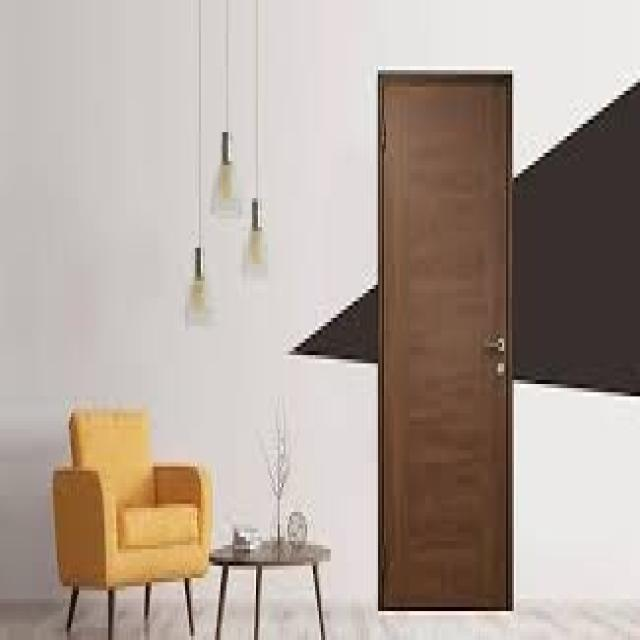door: (377, 70, 513, 611)
